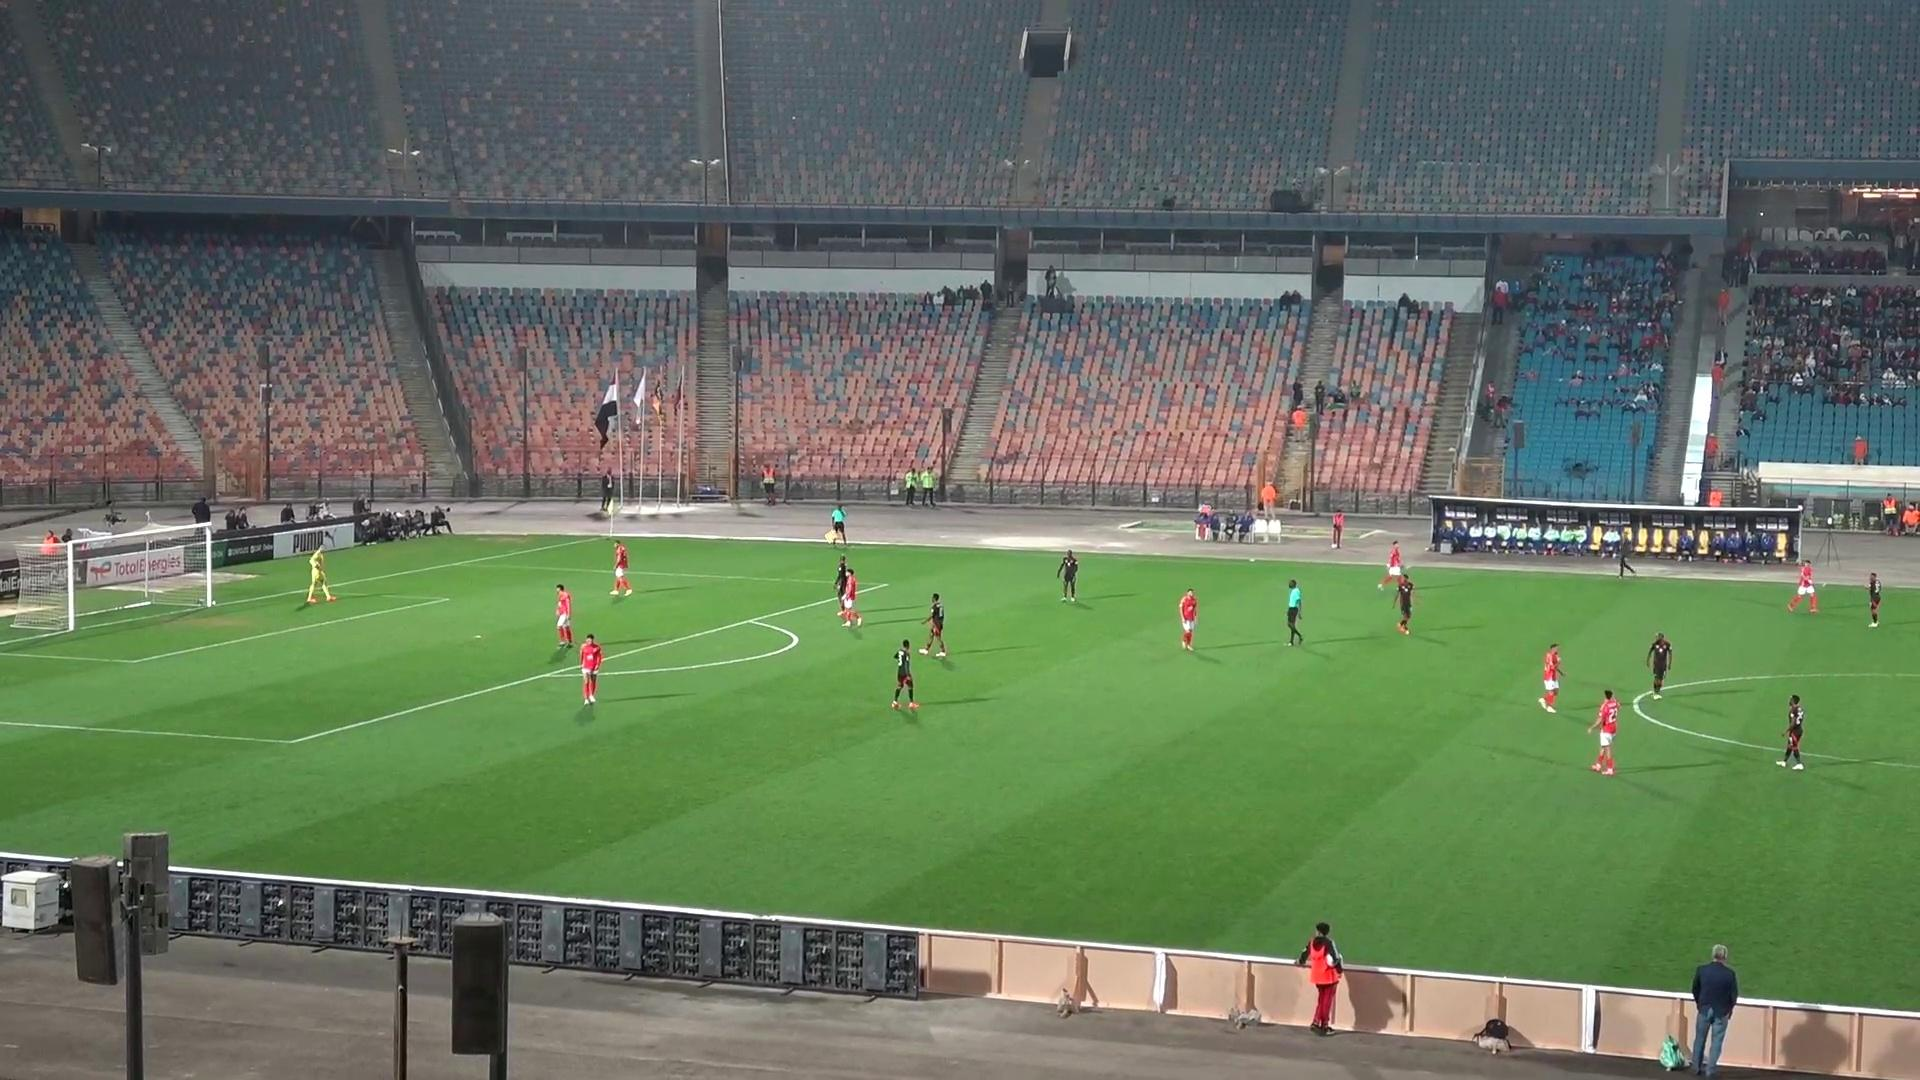GK1: (302, 531, 338, 605)
Refree: (1286, 579, 1302, 645), (825, 505, 848, 545)
Team1: (1589, 688, 1622, 775), (836, 558, 862, 626), (580, 633, 604, 707), (1538, 644, 1563, 713), (1787, 559, 1818, 613), (609, 541, 633, 597), (1378, 542, 1407, 584), (1179, 588, 1197, 651), (556, 584, 574, 649)
Team2: (1775, 694, 1805, 769), (1381, 574, 1415, 634), (891, 640, 919, 709), (1644, 632, 1673, 698), (920, 593, 948, 657), (833, 553, 855, 626), (1058, 550, 1077, 601), (1865, 574, 1882, 628)
